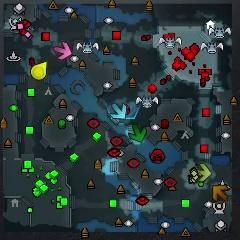p4: (31, 62, 47, 80)
x1: (54, 41, 72, 59)
x2: (196, 163, 211, 182)
x3: (112, 104, 127, 119)
x4: (129, 124, 146, 142)
x5: (212, 185, 228, 202)
